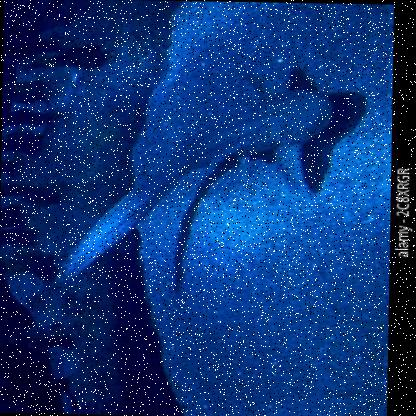zebra_shark: (26, 31, 356, 312)
